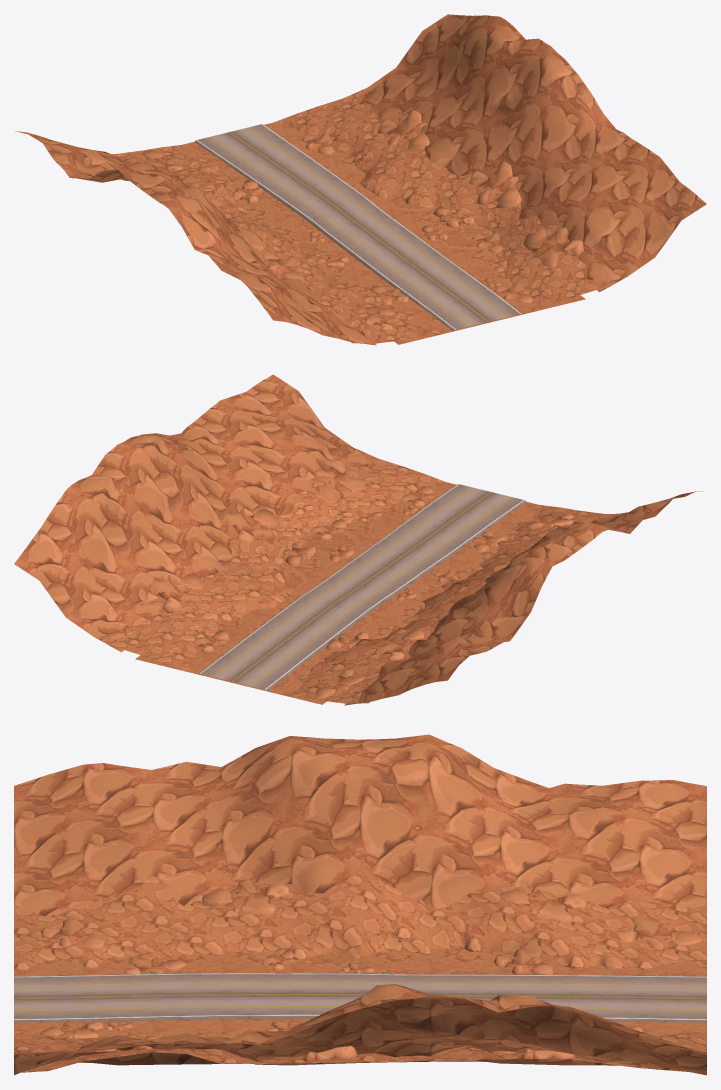
File: Desert_Log.FBX
3 renders of one model, top to bottom at view 1: azimuth 30°, elevation 25°; view 2: azimuth 150°, elevation 25°; view 3: azimuth 270°, elevation 25°, orthographic. The views are drawn at different scales.
Parts seen in each view (by area): view 1: Desert_Log_L, Desert_Log_R, Desert_Log_Road; view 2: Desert_Log_L, Desert_Log_R, Desert_Log_Road; view 3: Desert_Log_R, Desert_Log_L, Desert_Log_Road.
Boxes of the visible parts, x1,y1,x2,y2 form: Desert_Log_L: (264, 14, 706, 322); Desert_Log_R: (15, 131, 487, 345); Desert_Log_Road: (194, 124, 521, 331); Desert_Log_L: (14, 374, 456, 682); Desert_Log_R: (233, 491, 703, 705); Desert_Log_Road: (199, 484, 526, 691); Desert_Log_R: (14, 734, 706, 976); Desert_Log_L: (14, 984, 706, 1075); Desert_Log_Road: (14, 973, 706, 1022).
Bounding box in the file's own units: 49.07 × 11.91 × 50.
2 materials, 2 textured.
